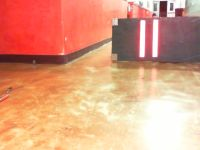switch: (151, 19, 159, 57), (139, 20, 146, 57)
